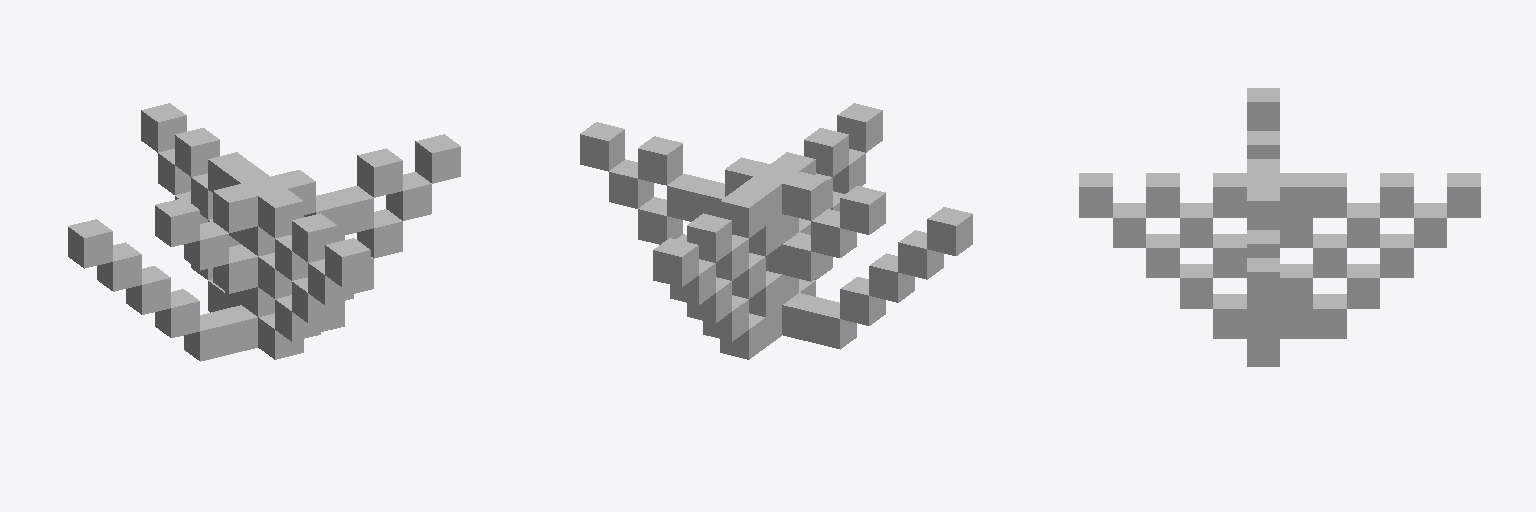
Rendered from grass collectible 1.obj.
3 renders of one model, left to right at view 1: azimuth 30°, elevation 25°; view 2: azimuth 150°, elevation 25°; view 3: azimuth 270°, elevation 25°, orthographic.
Visible parts, largest first — view 1: object 1; view 2: object 1; view 3: object 1.
Part boxes in pixels (left/top/right/bottom): object 1: left=68, top=103, right=460, bottom=361; object 1: left=580, top=103, right=972, bottom=359; object 1: left=1079, top=88, right=1480, bottom=366.
Bounding box in the file's own units: 1.3 × 0.5 × 1.2.